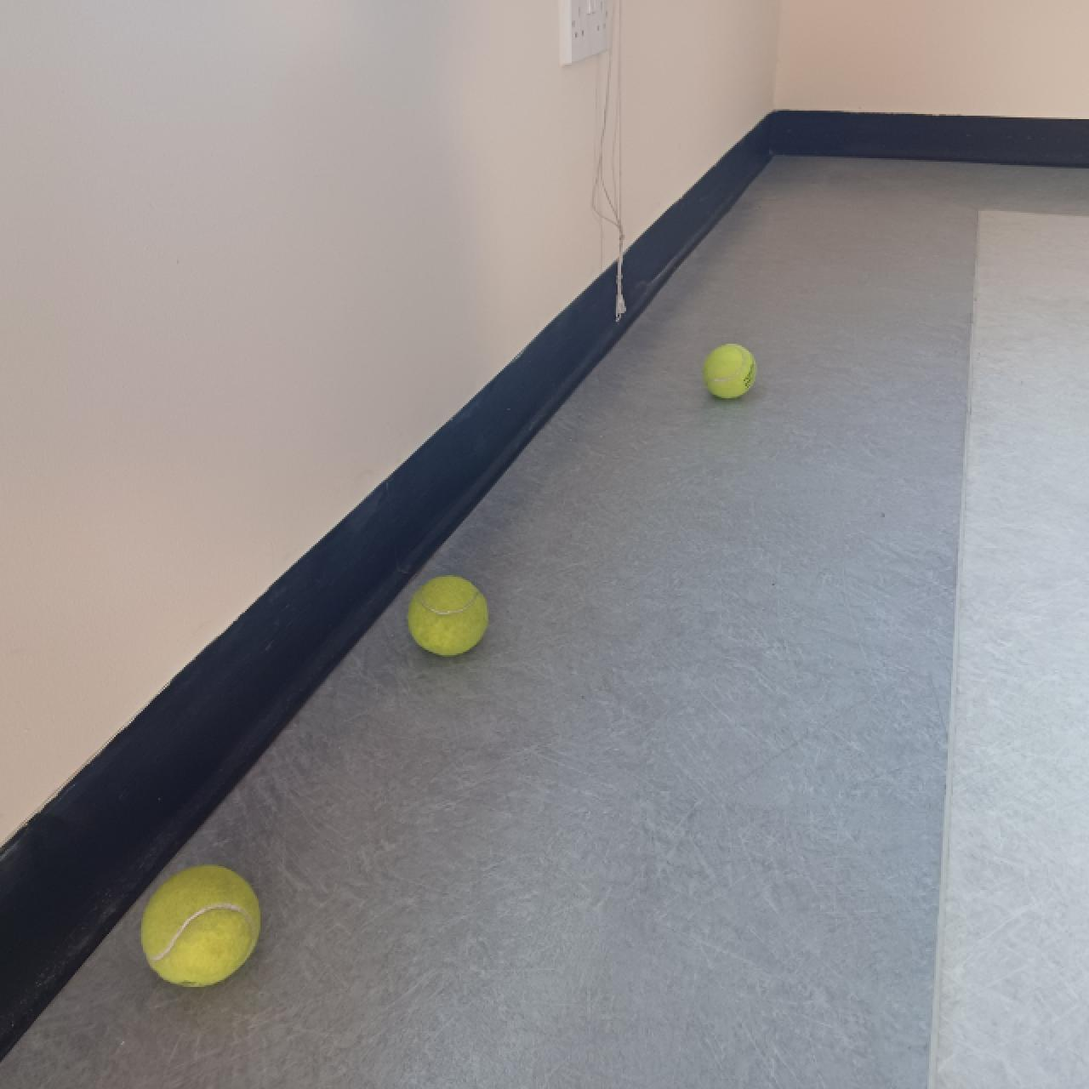tennis-ball: (136, 862, 269, 993), (402, 572, 492, 664), (699, 337, 761, 405)
